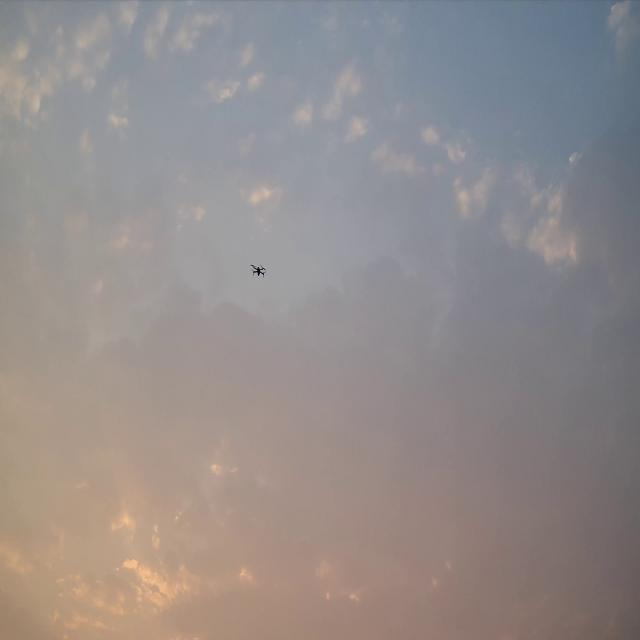drone: (250, 263, 267, 277)
